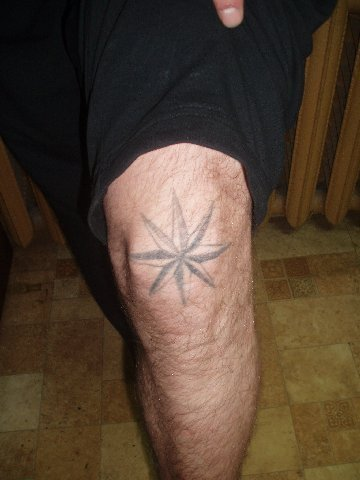tatu4_zvezda: (127, 190, 226, 308)
